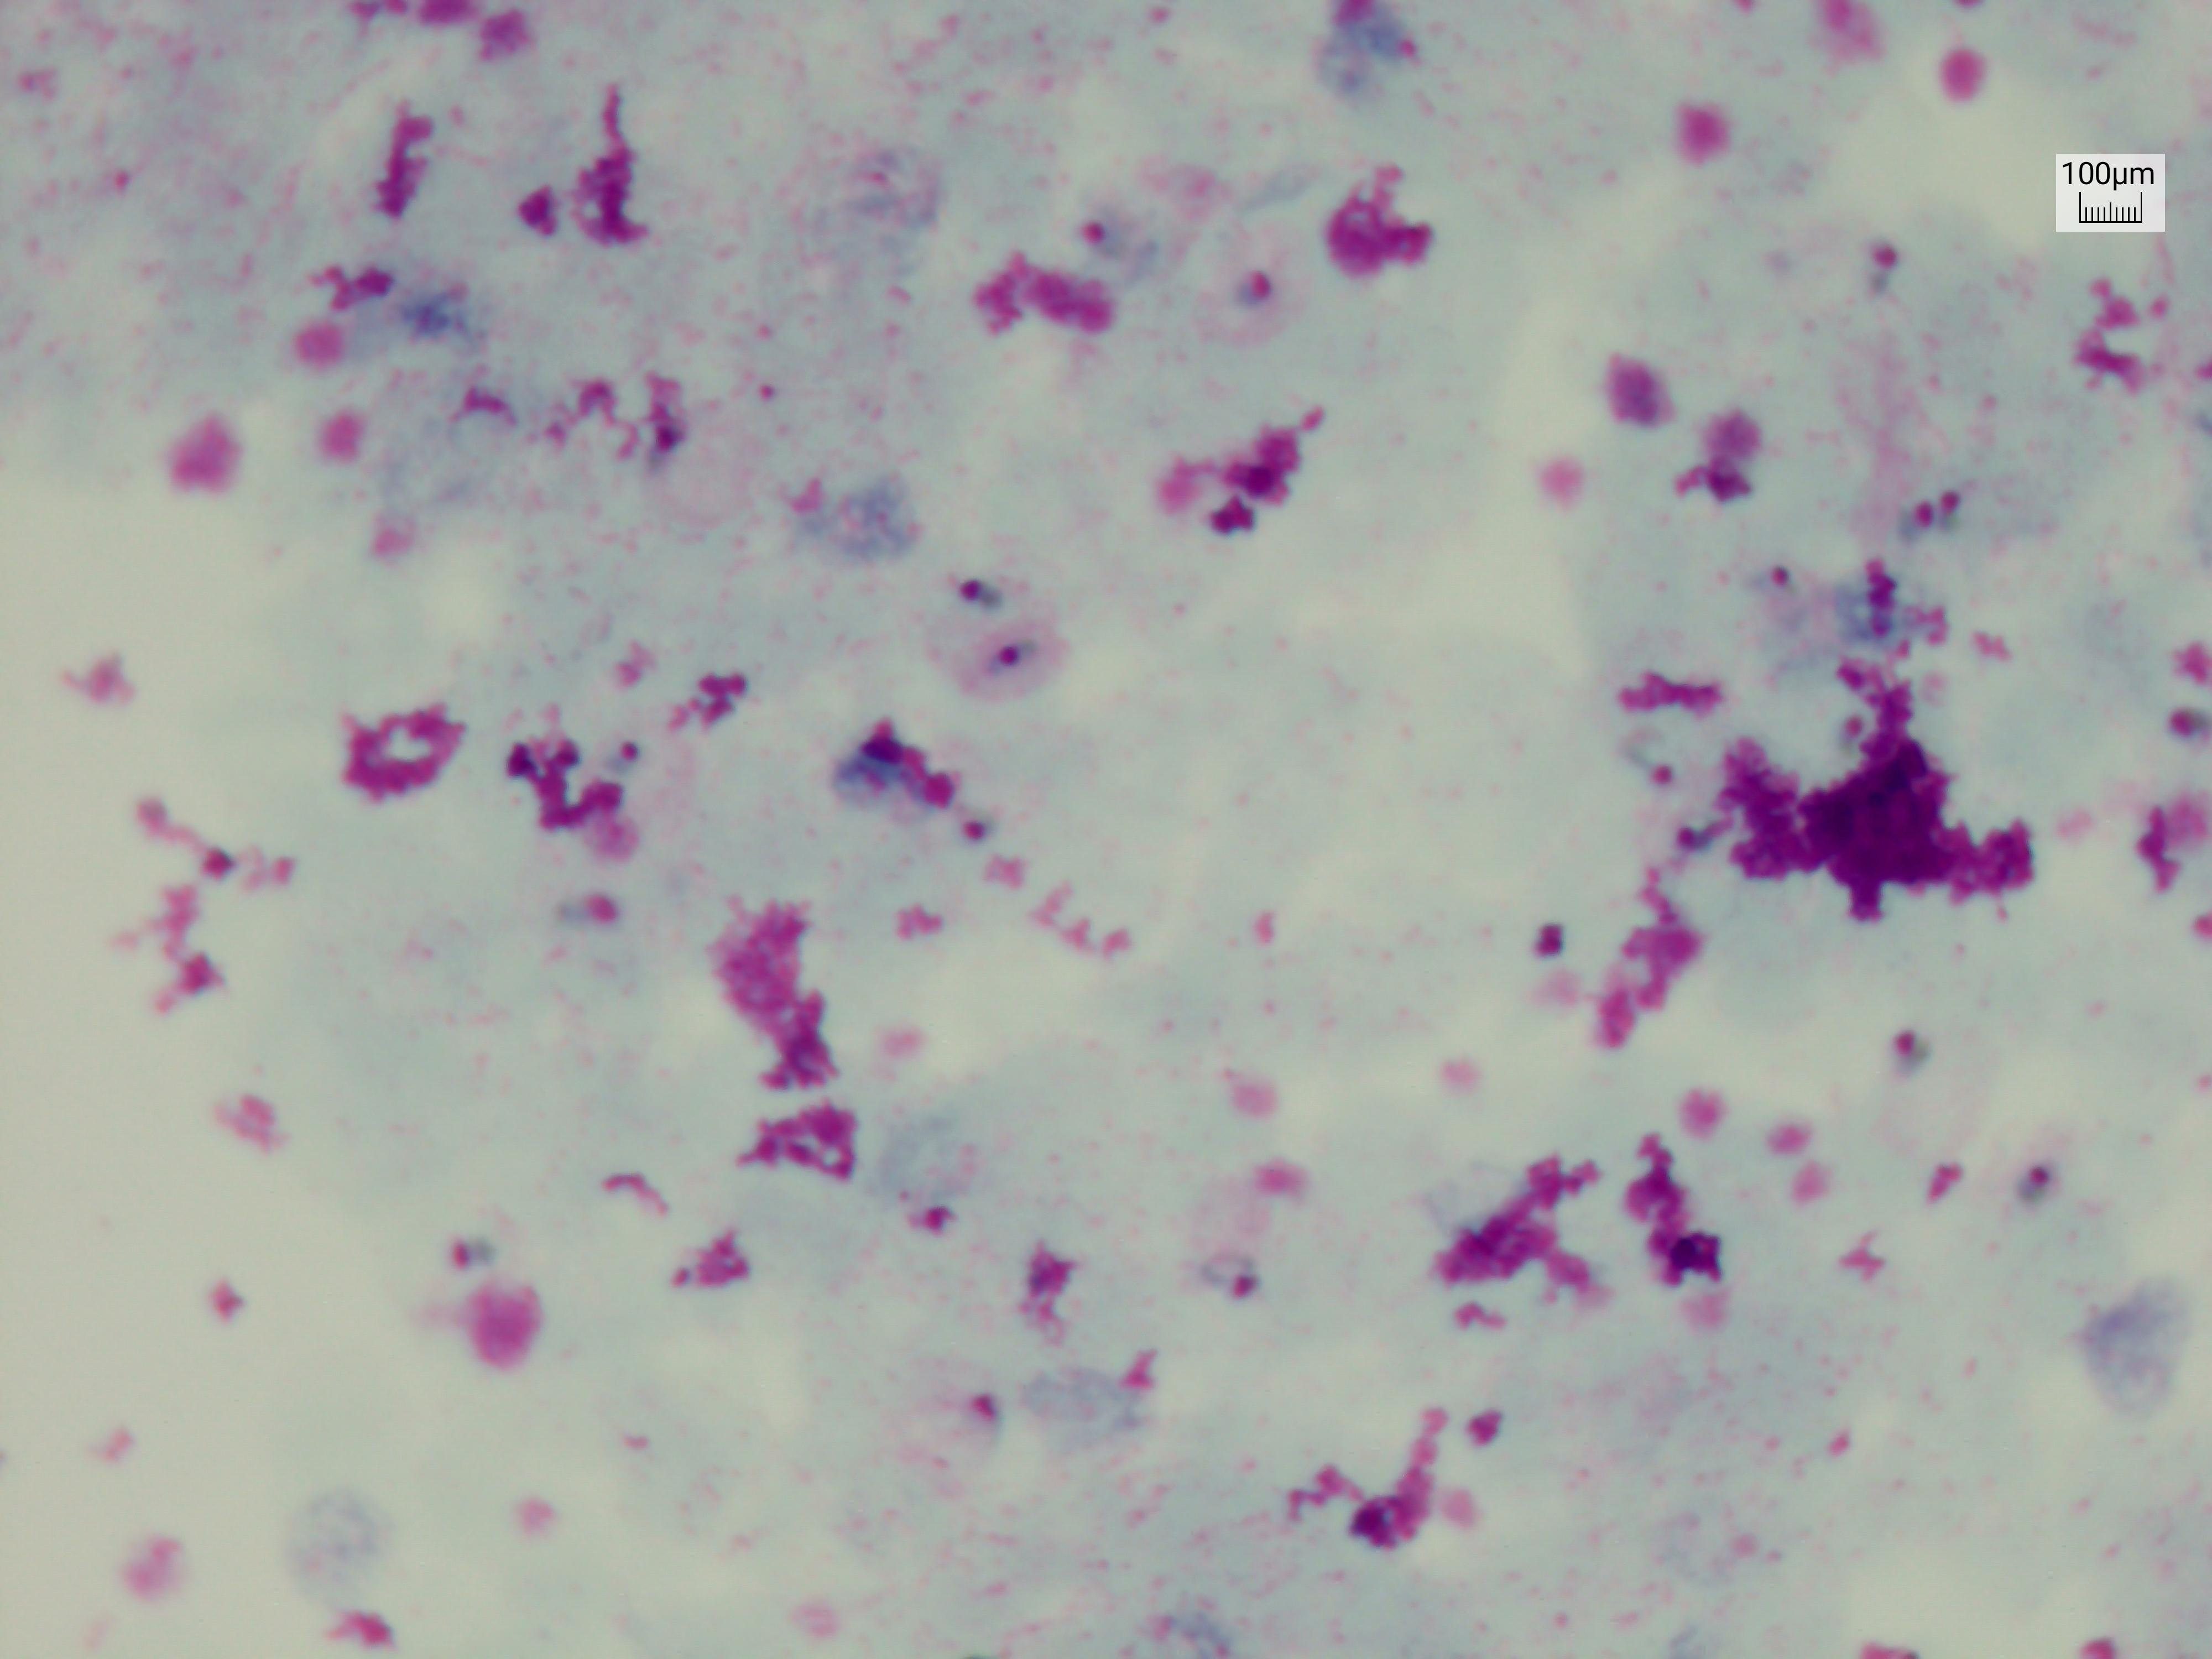p.falciparum: (965, 633, 1068, 709), (946, 1384, 1017, 1467), (634, 396, 697, 484), (1228, 258, 1294, 340), (1888, 1023, 1956, 1100), (1756, 547, 1810, 631), (946, 568, 1014, 629), (448, 1237, 507, 1307), (1209, 1248, 1268, 1309), (1867, 230, 1919, 298), (2015, 1168, 2071, 1222), (1073, 216, 1123, 275), (613, 735, 657, 796)
